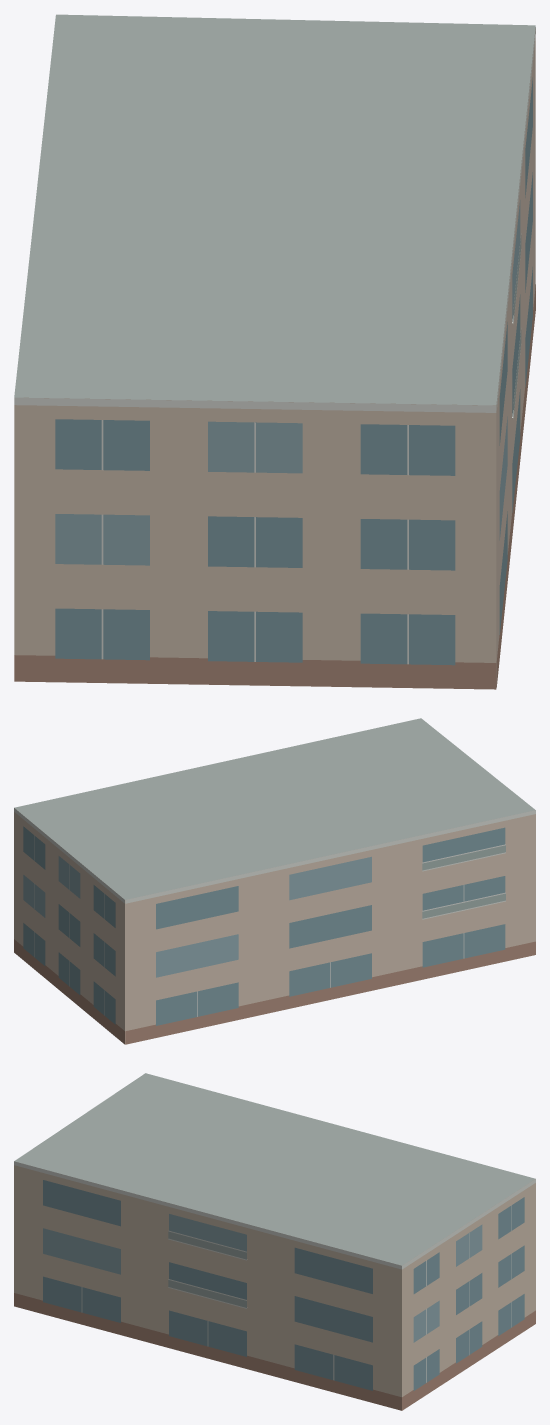
Rendered from survey-upis-32886334.glb.
3 renders of one model, top to bottom at view 1: azimuth 30°, elevation 25°; view 2: azimuth 150°, elevation 25°; view 3: azimuth 270°, elevation 25°, orthographic. The views are drawn at different scales.
Parts seen in each view (by area): view 1: survey-upis-32886334.tmp; view 2: survey-upis-32886334.tmp; view 3: survey-upis-32886334.tmp.
Boxes of the visible parts, x1,y1,x2,y2 form: survey-upis-32886334.tmp: [14, 14, 535, 689]; survey-upis-32886334.tmp: [14, 718, 535, 1044]; survey-upis-32886334.tmp: [14, 1073, 535, 1410].
Bounding box in the file's own units: 26.06 × 9.15 × 29.83.
